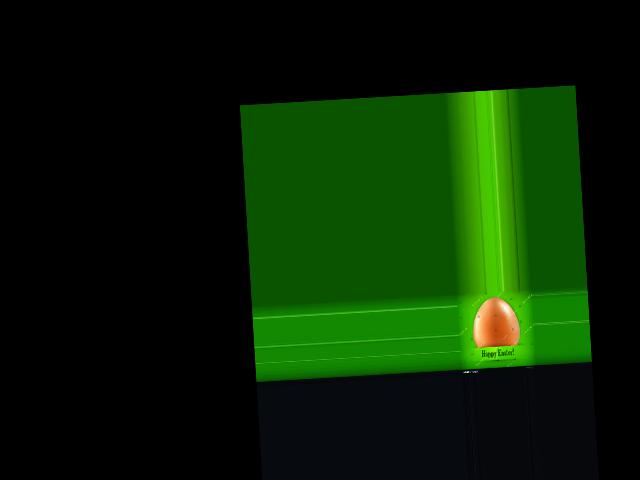egg: (471, 295, 520, 347)
